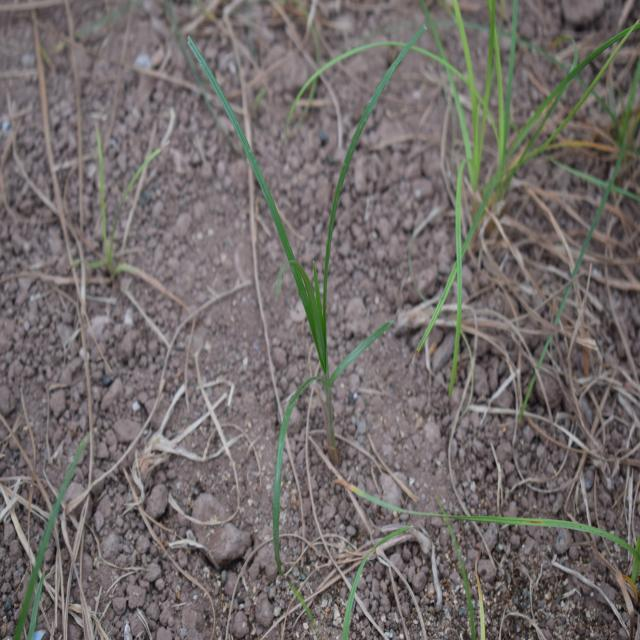sedge: (158, 23, 432, 496)
